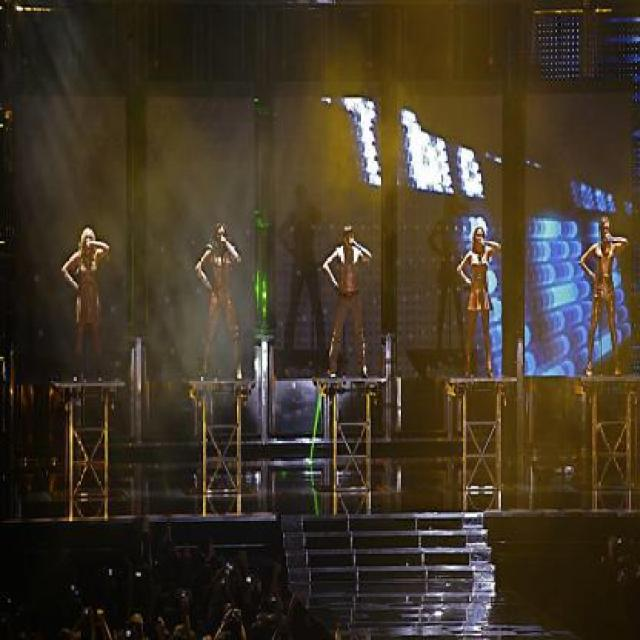Person: (324, 224, 374, 382), (580, 218, 628, 376), (196, 222, 242, 381), (62, 227, 109, 381), (458, 227, 500, 376)
